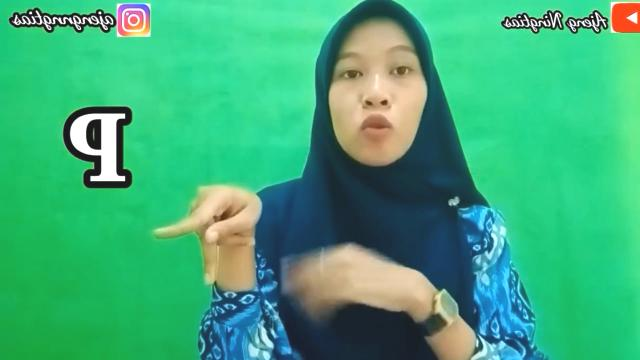P: (149, 184, 263, 286)
